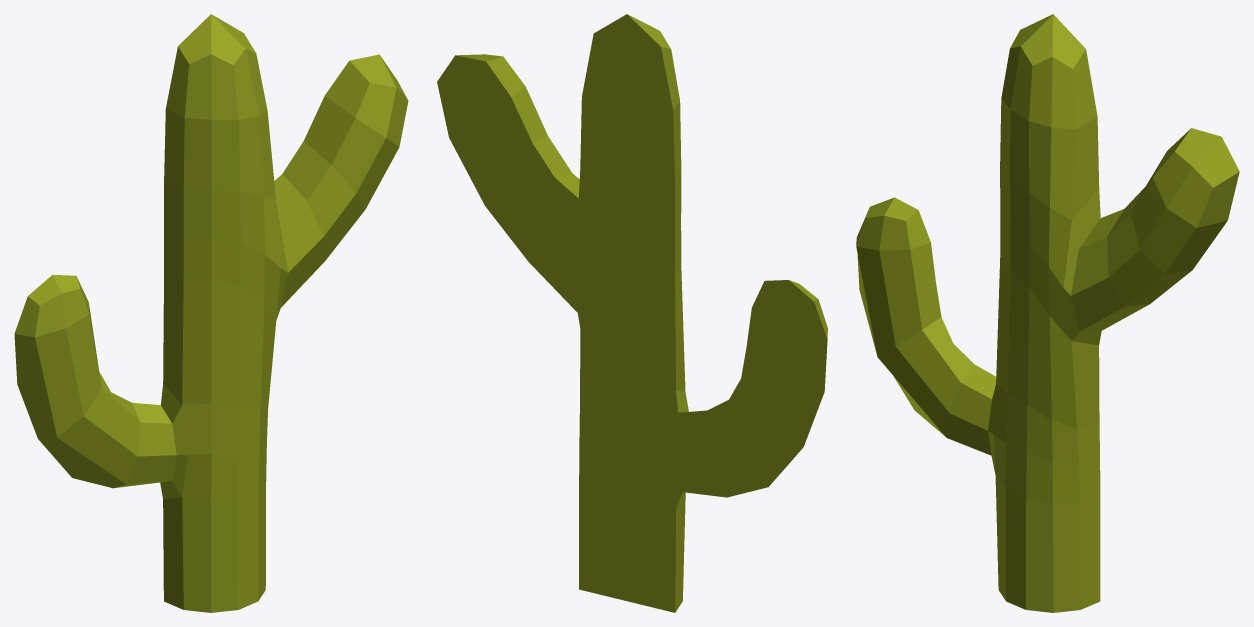
The model's file is cactus2.fbx.
3 views of the same model, side by side, from view 1: azimuth 30°, elevation 25°; view 2: azimuth 150°, elevation 25°; view 3: azimuth 330°, elevation 25° (orthographic).
Parts seen in each view (by area): view 1: Cylinder; view 2: Cylinder; view 3: Cylinder.
Part boxes in pixels (<box>): Cylinder: <box>14,14,408,612</box>; Cylinder: <box>437,14,827,612</box>; Cylinder: <box>856,14,1239,612</box>.
Bounding box in the file's own units: 674 × 968 × 94.38.
